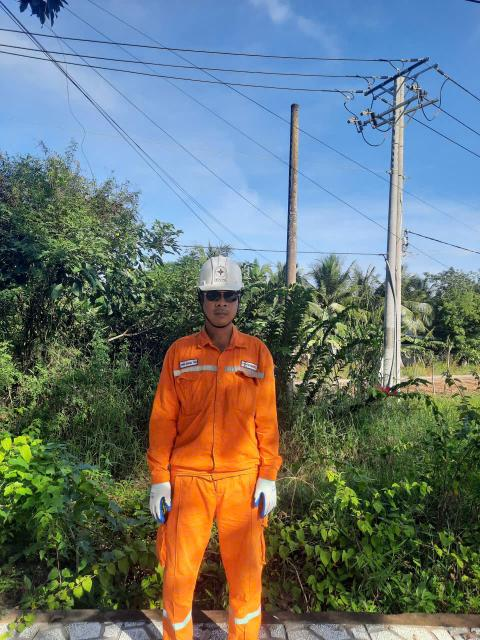gloves: (252, 476, 293, 520), (138, 483, 178, 527)
helmet: (191, 251, 258, 296)
